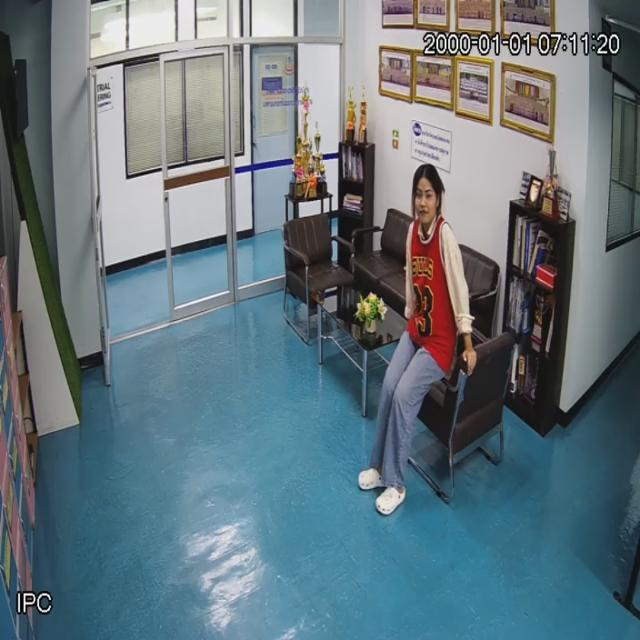normal: (357, 164, 462, 513)
